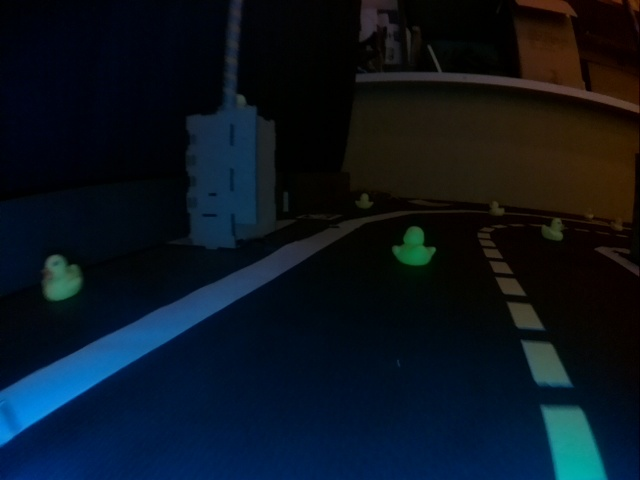Duckie: (41, 255, 81, 298), (393, 231, 437, 264), (543, 219, 565, 239), (492, 205, 506, 215), (360, 197, 374, 206)
QR code: (300, 211, 338, 219)
